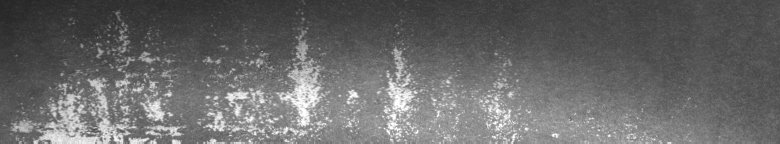kb: (4, 9, 594, 136)
